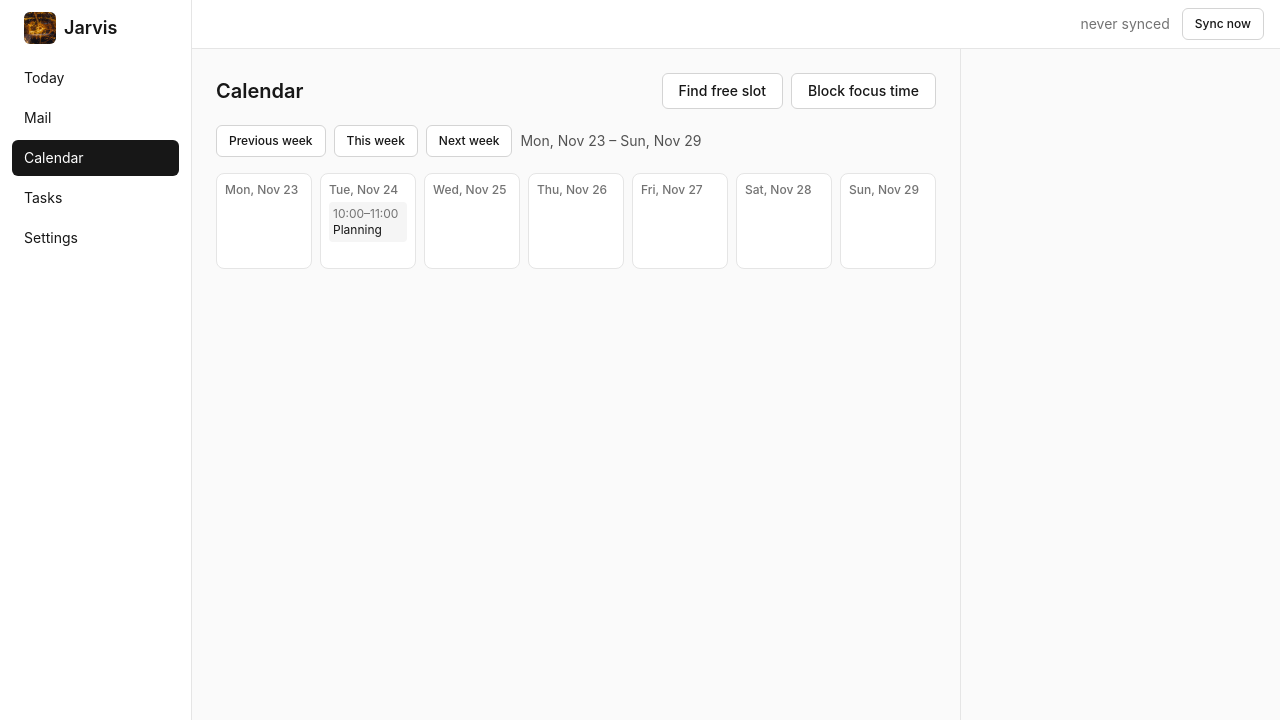
Focus account choice › offers the account selector with two active accounts and posts the choice
The width and height of the screenshot is (1280, 720).
Click the button "Block focus time" at [864, 91], box [791,73,936,109]
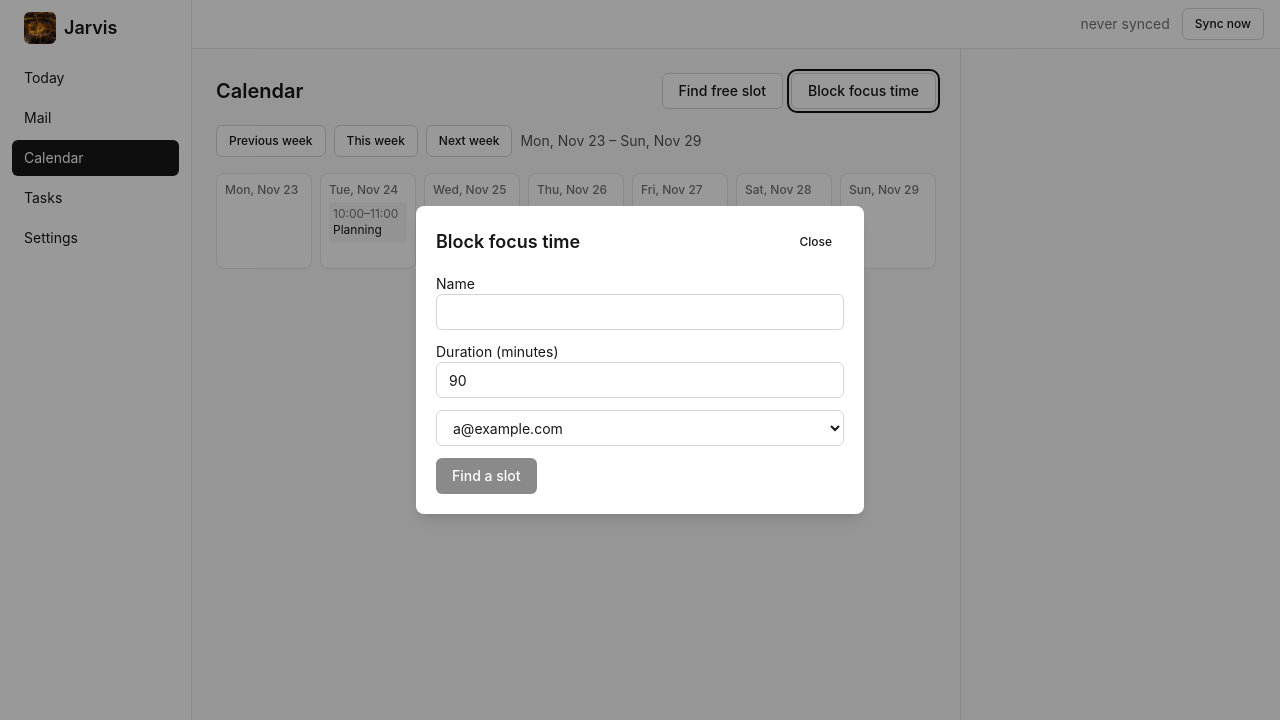
Select "b@example.com" in the dropdown named "Account" at [640, 428], box [436,410,844,446]
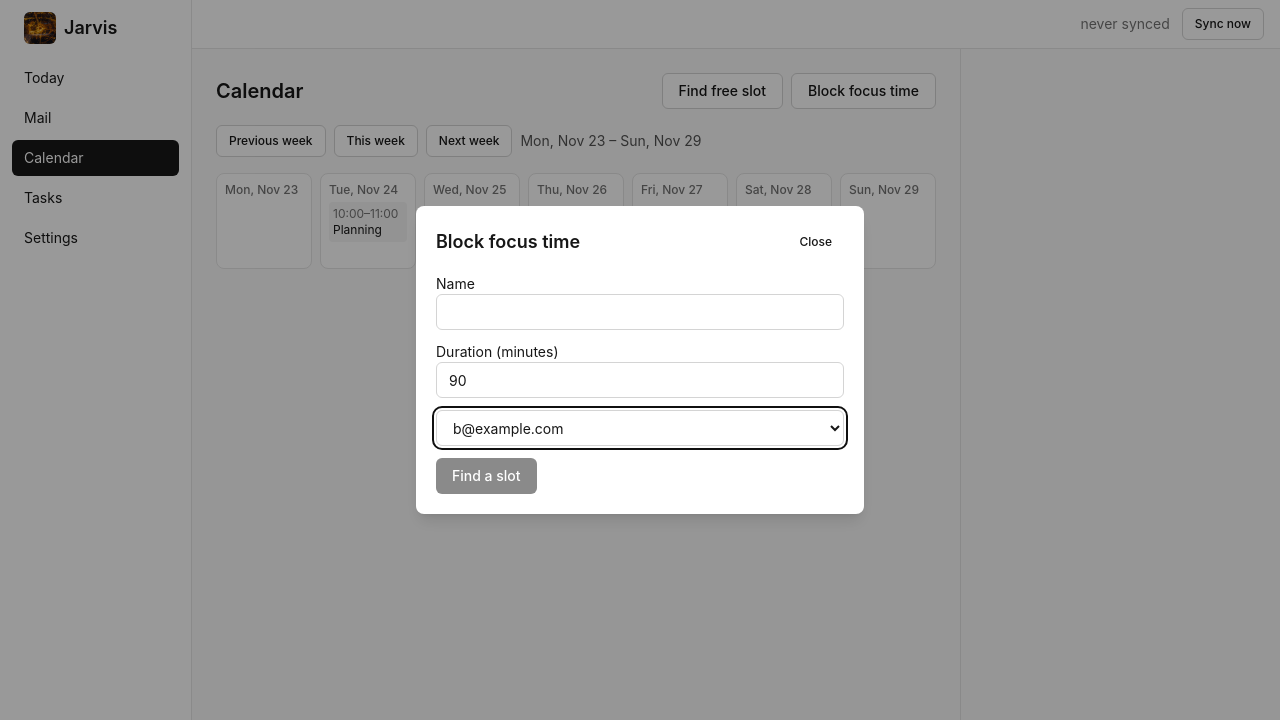
Type "Deep work" into the field labelled "Name" at [640, 312], box [436,294,844,330]
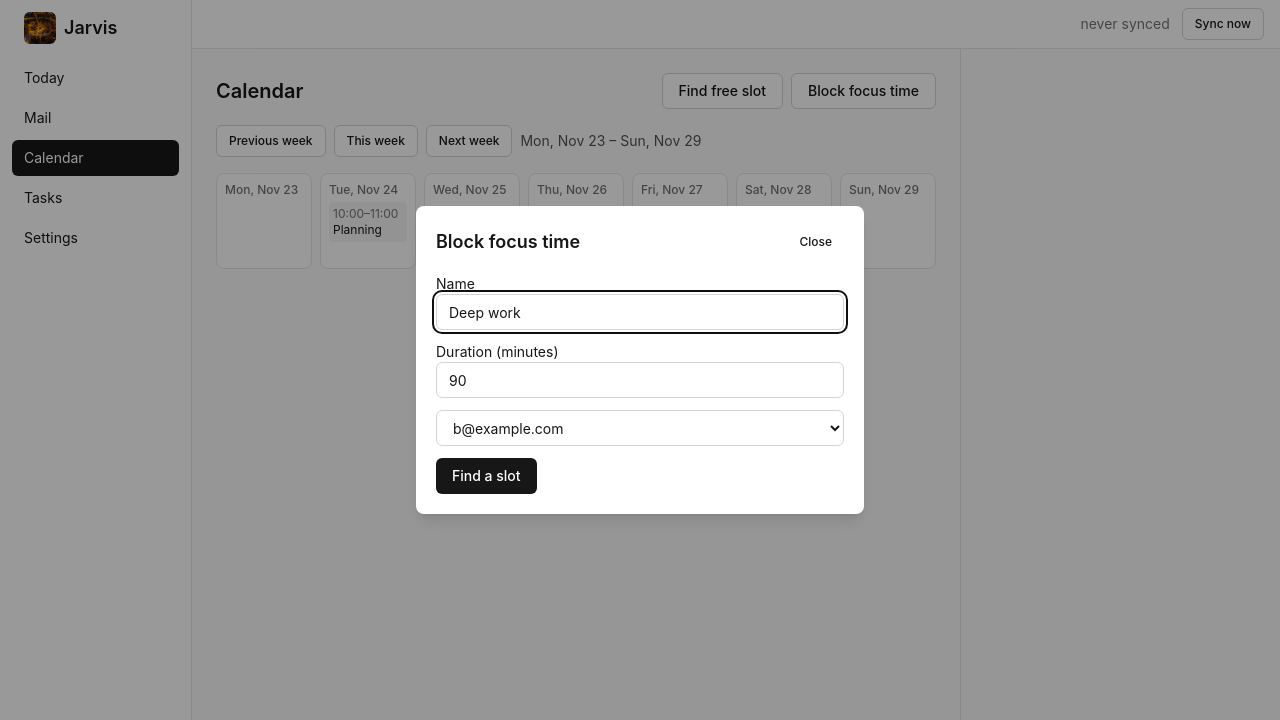
Click the button "Find a slot" at [486, 476], box [436,458,537,494]
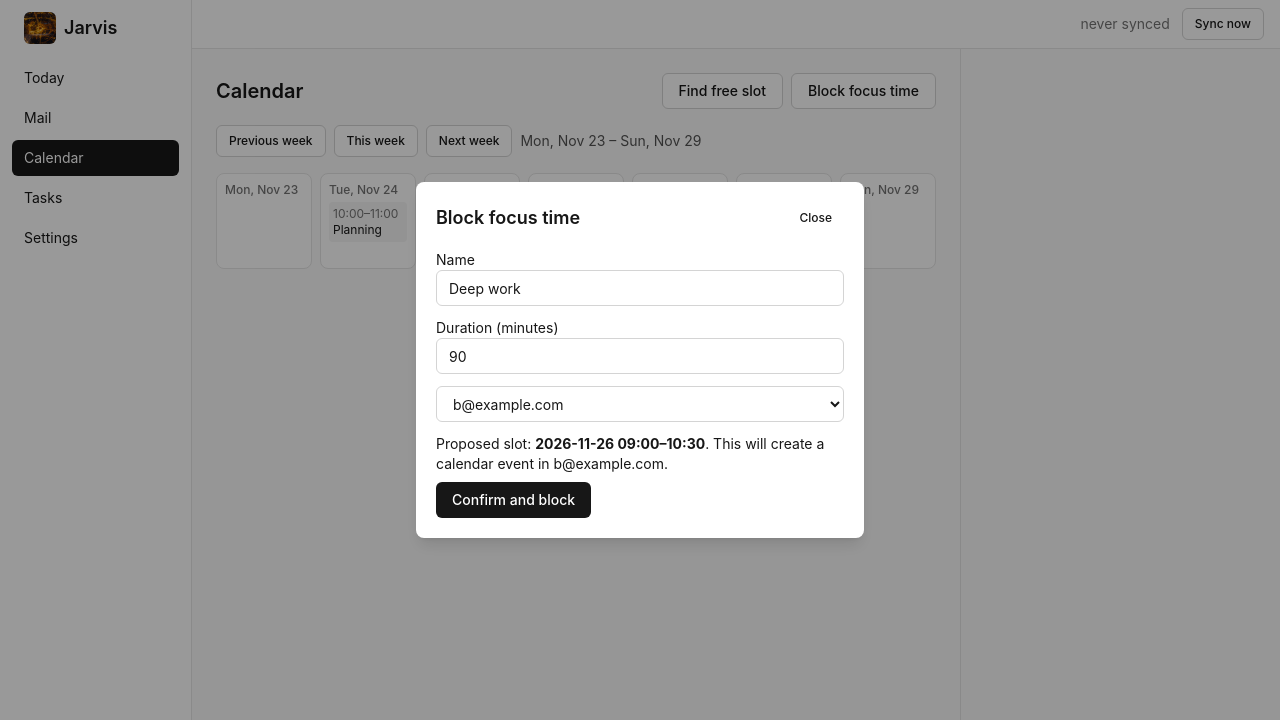
Now the text "2026-11-26 09:00–10:30" is shown, box [535,435,705,452]
Now the text "This will create a calendar event in b@example.com" is shown, box [436,434,844,474]
Click the button "Confirm and block" at [514, 500], box [436,482,591,518]
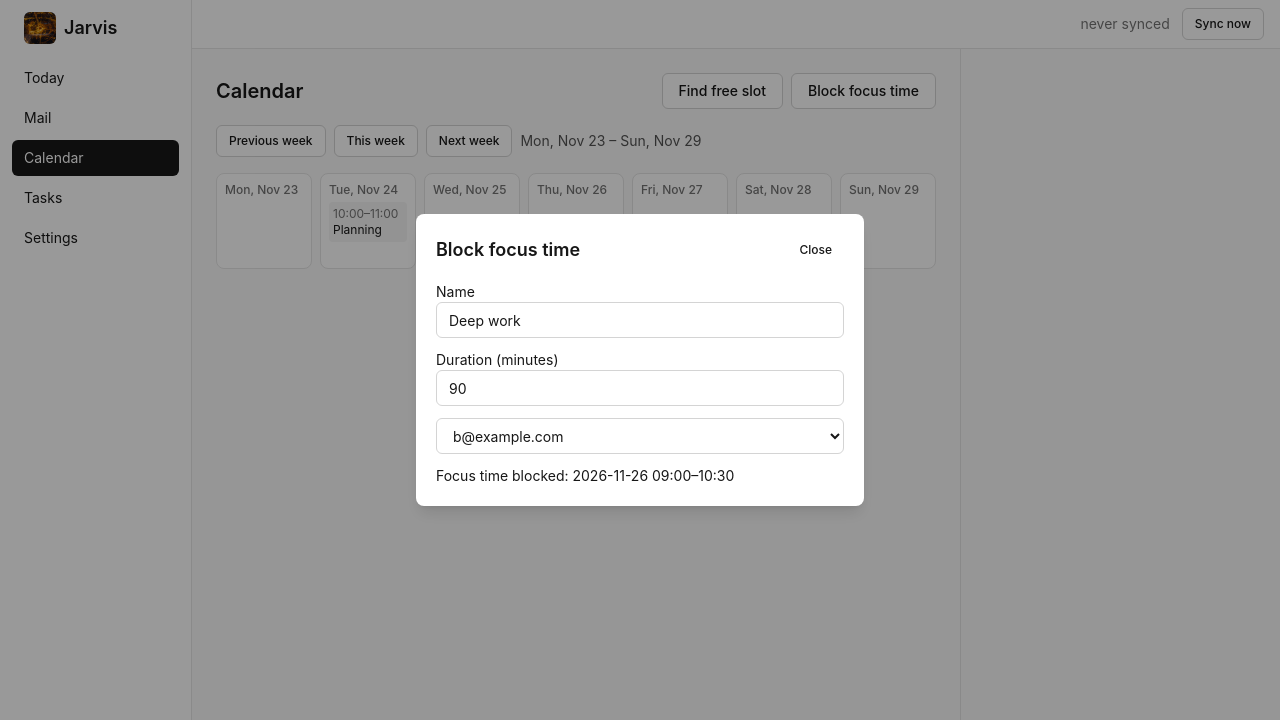
Now the text "Focus time blocked: 2026-11-26 09:00–10:30" is shown, box [436,467,734,484]
